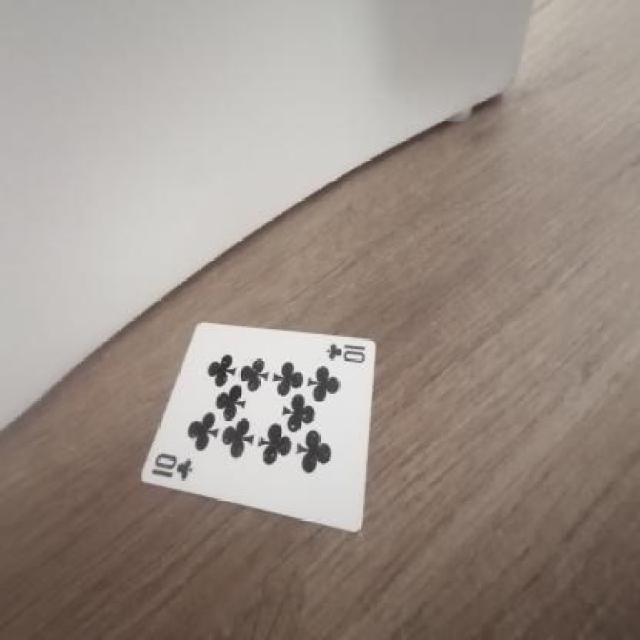10C: (312, 333, 382, 370), (148, 445, 197, 484)
